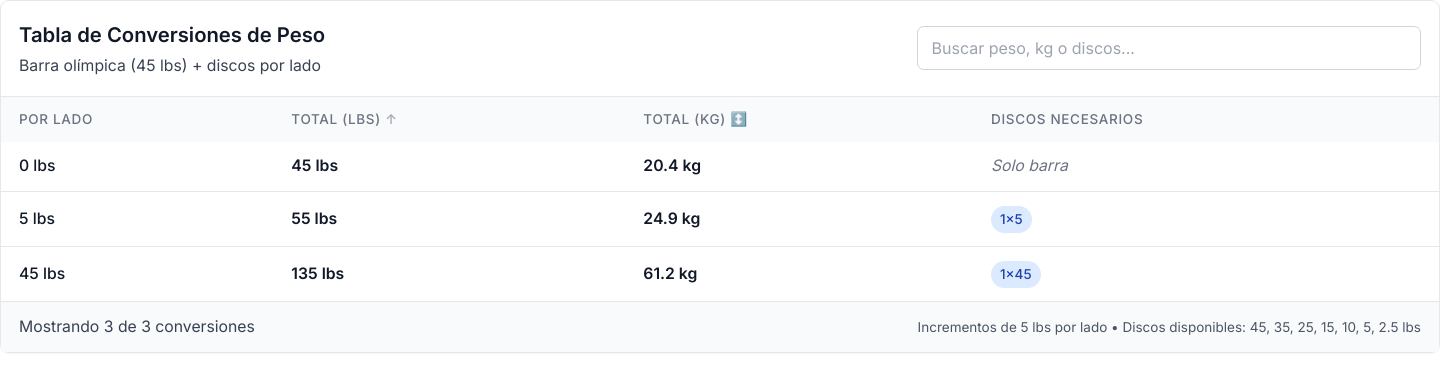
WeightConversionsTable › sorts conversions by weight
// Click to sort by weight (should toggle from asc to desc)
Click the column heading "Total (lbs)".
click(336, 119)  # box [273,96,625,142]
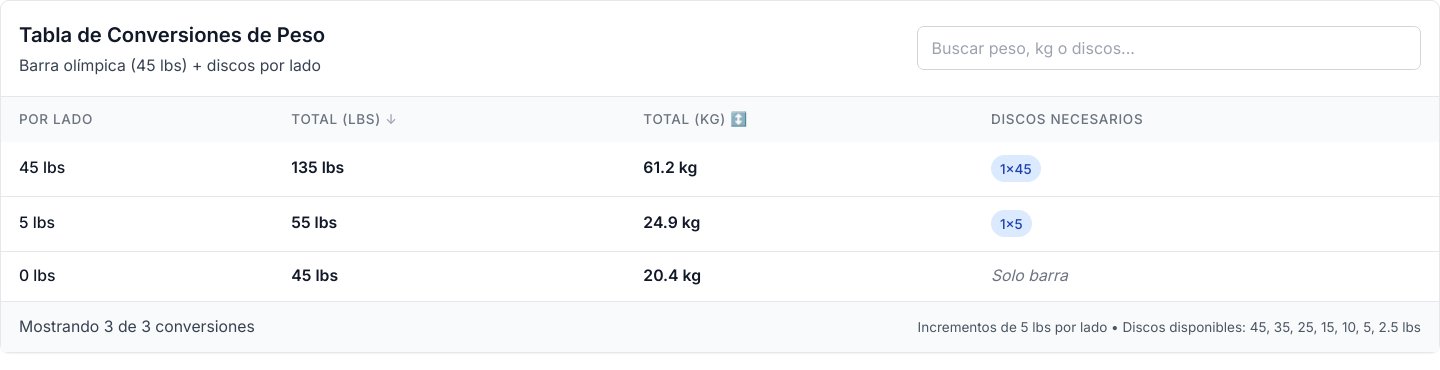
Expected: the text "↓" is shown, [385,110,398,128]
